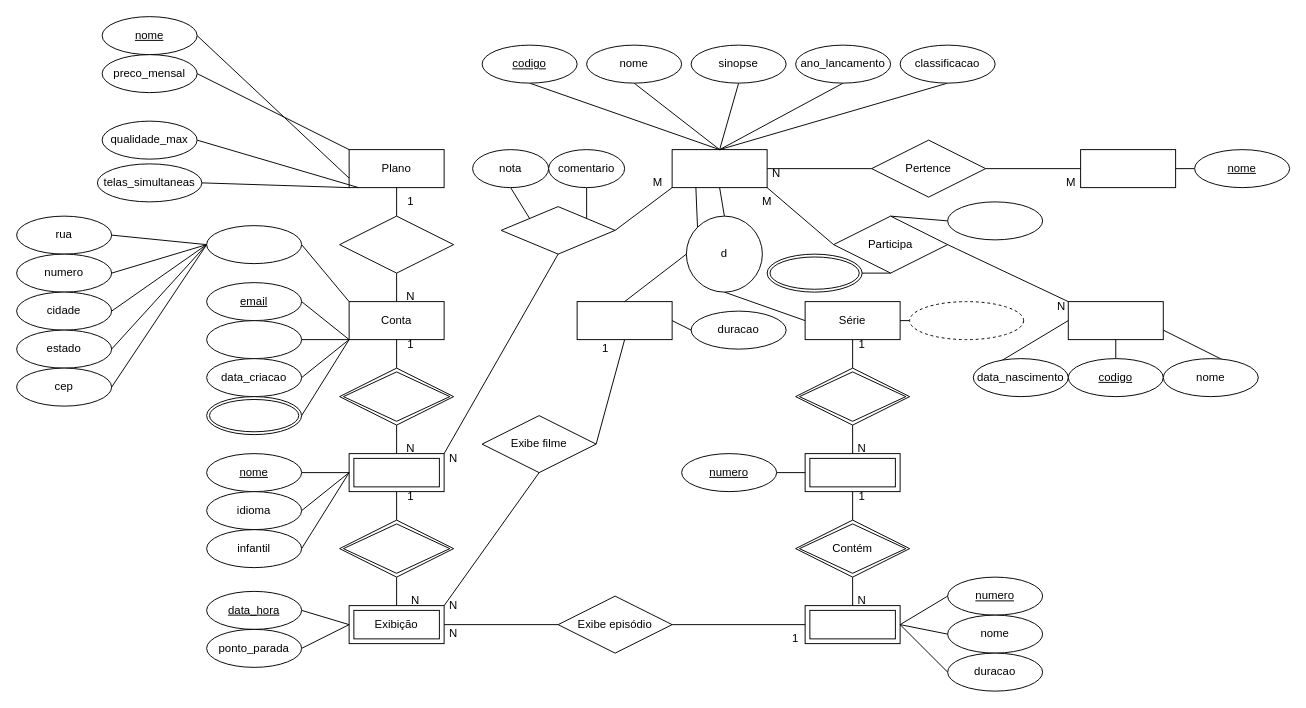
The diagram is 1306 pixels wide and 708 high, and some of its shapes have lost their labels. The shapes that lost their labels are listed below. From the top down, each one's centre as x and y in pixels, then its label:
At point 719,168: "Título".
At point 1128,168: "Gênero".
At point 557,230: "avalia".
At point 995,220: "personagem".
At point 254,244: "endereco".
At point 396,244: "Assina".
At point 814,272: "papel".
At point 254,339: "senha".
At point 624,320: "Filme".
At point 966,320: "total_temporadas".
At point 1115,320: "Pessoa".
At point 254,415: "telefone".
At point 396,396: "Possui".
At point 852,396: "Tem".
At point 396,472: "Perfil".
At point 852,472: "Temporada".
At point 396,548: "Registra".
At point 852,624: "Episódio".
